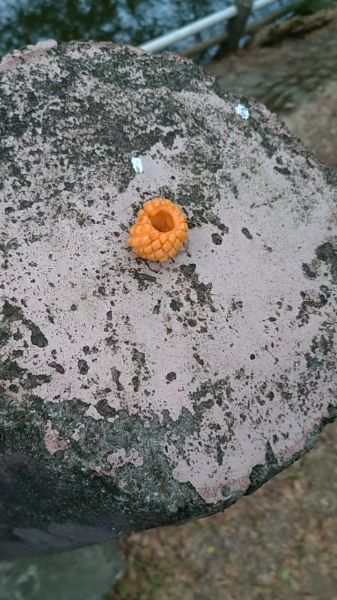eggs: (124, 193, 199, 266)
